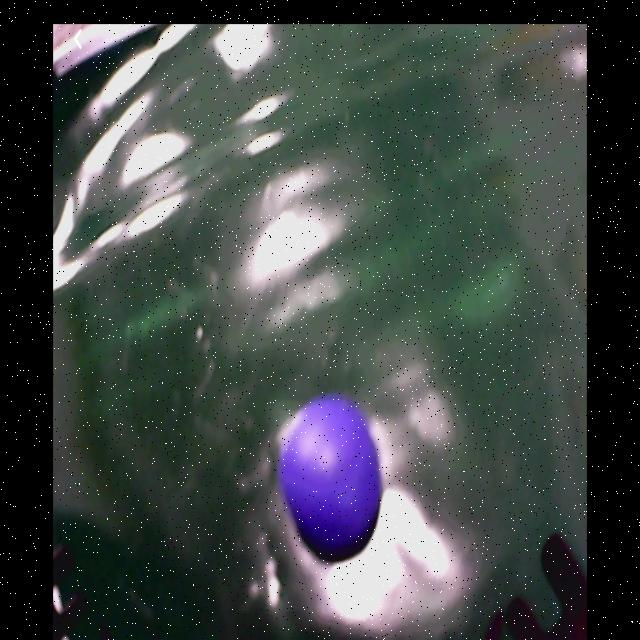ball: (283, 402, 384, 560)
